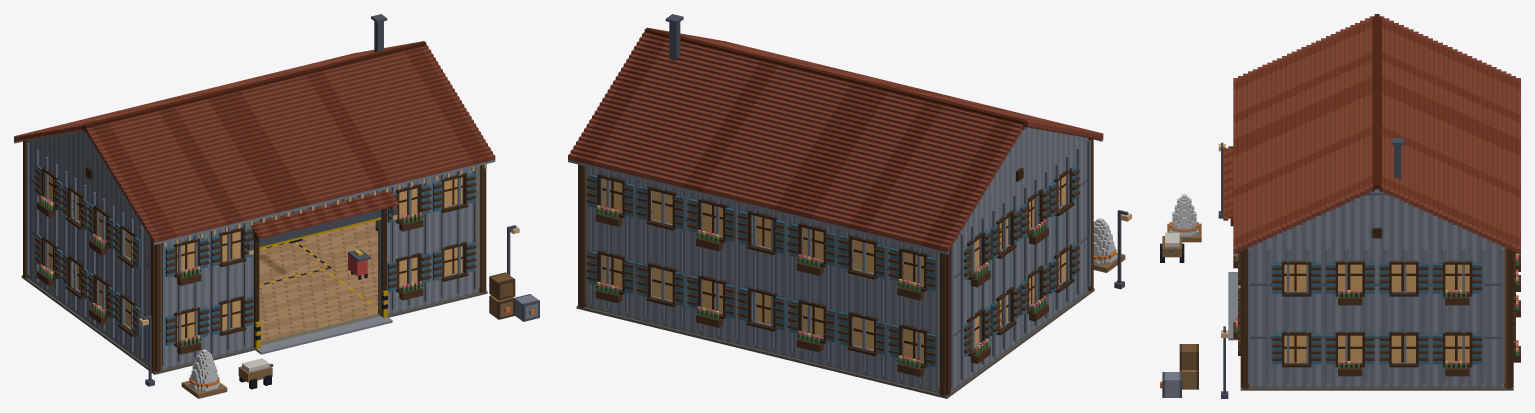
File: workshop_e1_l1.glb
3 views of the same model, side by side, from view 1: azimuth 30°, elevation 25°; view 2: azimuth 150°, elevation 25°; view 3: azimuth 270°, elevation 25° (orthographic). The views are drawn at different scales.
Parts seen in each view (by area): view 1: CutRoof, CutPZ, Base, CutNX, CutNZ; view 2: CutRoof, CutNZ, CutNX, Base; view 3: CutRoof, CutPX, Base, CutPZ, CutNZ.
Boxes of the visible parts, bbox=[...] form: CutRoof: bbox=[14, 14, 495, 246]; CutPZ: bbox=[151, 165, 486, 352]; Base: bbox=[21, 220, 539, 398]; CutNX: bbox=[26, 141, 150, 346]; CutNZ: bbox=[23, 140, 28, 258]; CutRoof: bbox=[568, 14, 1103, 254]; CutNZ: bbox=[578, 164, 950, 374]; CutNX: bbox=[951, 139, 1090, 370]; Base: bbox=[576, 210, 1131, 398]; CutRoof: bbox=[1233, 14, 1520, 255]; CutPX: bbox=[1248, 246, 1503, 371]; Base: bbox=[1160, 142, 1520, 398]; CutPZ: bbox=[1223, 146, 1250, 368]; CutNZ: bbox=[1504, 247, 1520, 368].
Bounding box in the file's own units: 18.4 × 10.6 × 14.8.
